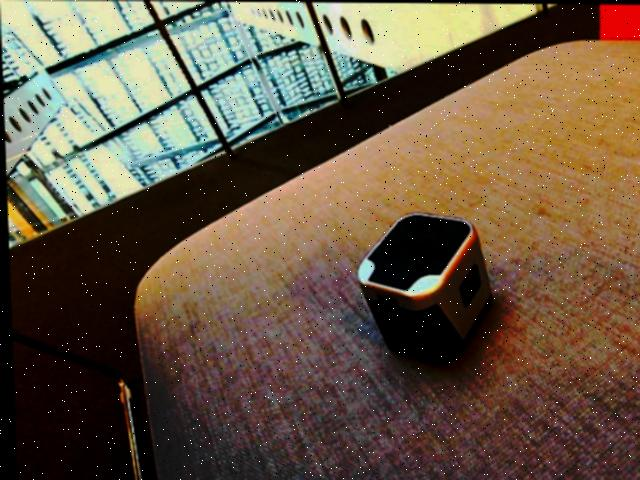adapter: (353, 210, 492, 365)
